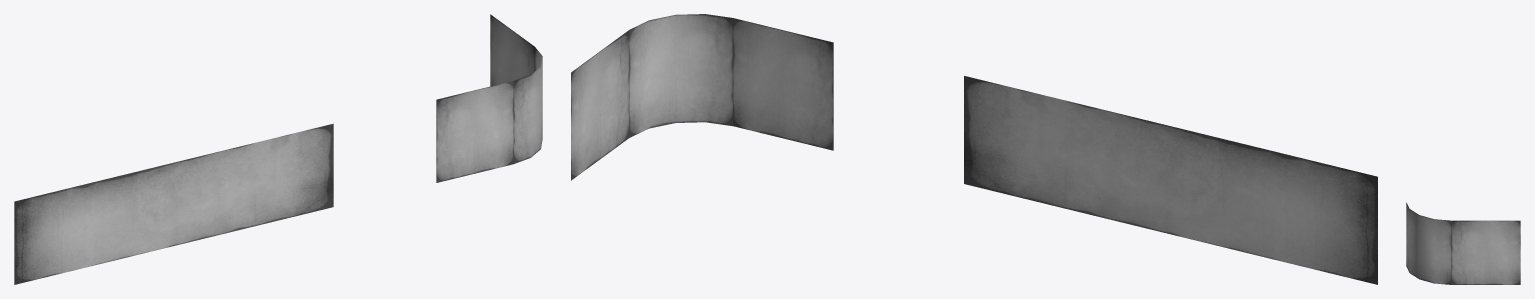
Rendered from SM_HK_01_Glass_00.fbx.
3 renders of one model, left to right at view 1: azimuth 30°, elevation 25°; view 2: azimuth 150°, elevation 25°; view 3: azimuth 270°, elevation 25°, orthographic. The views are drawn at different scales.
Visible parts, largest first — view 1: SM_HK_01_Glass_00; view 2: SM_HK_01_Glass_00; view 3: SM_HK_01_Glass_00.
Part boxes in pixels (x1,y1,x2,y2): SM_HK_01_Glass_00: [14, 14, 542, 284]; SM_HK_01_Glass_00: [571, 14, 1377, 284]; SM_HK_01_Glass_00: [1406, 202, 1520, 284].
Size of the model in its own units: 1088 by 158 by 255.
